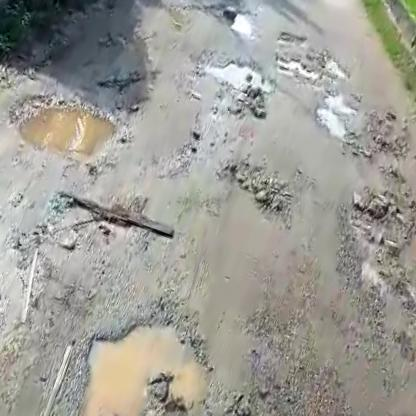pothole: (36, 284, 234, 416), (2, 73, 130, 173), (322, 189, 416, 307), (193, 50, 284, 119), (306, 88, 368, 147), (264, 43, 340, 90)
